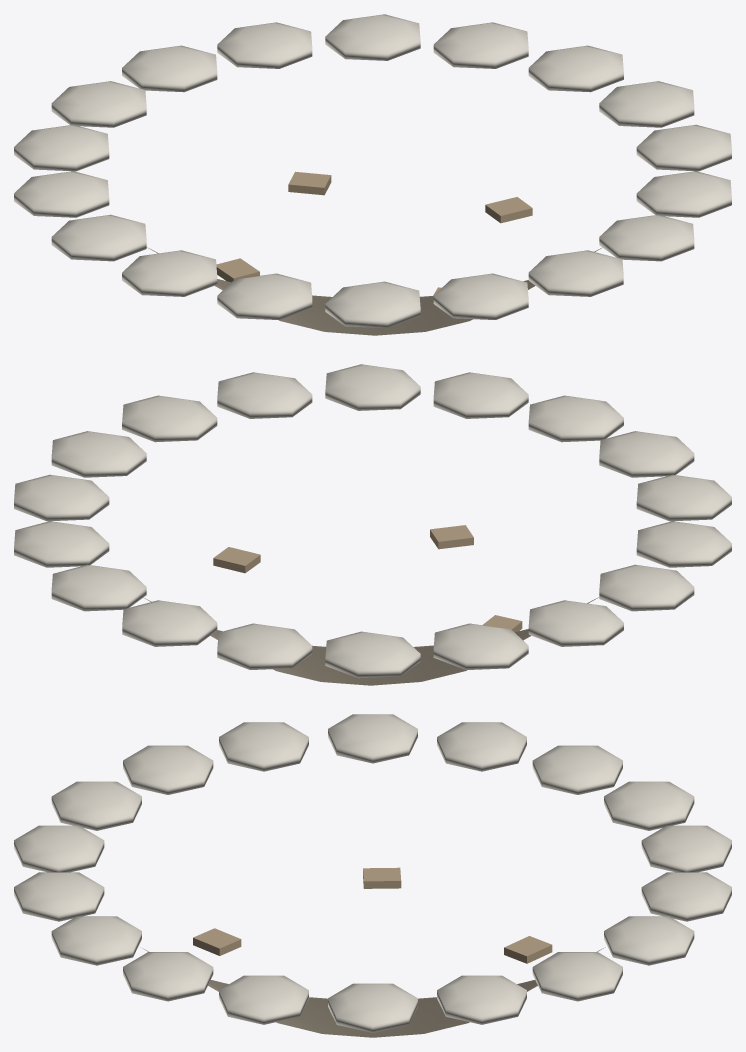
The model's file is trench-line-1917-shell-crater-flooded-ba834ab6__24080.glb.
3 views of the same model, one above another, from view 1: azimuth 30°, elevation 25°; view 2: azimuth 150°, elevation 25°; view 3: azimuth 270°, elevation 25° (orthographic).
Parts seen in each view (by area): view 1: shell-crater-flooded; view 2: shell-crater-flooded; view 3: shell-crater-flooded.
Boxes of the visible parts, <box> form: shell-crater-flooded: <box>14,14,731,335</box>; shell-crater-flooded: <box>14,364,731,685</box>; shell-crater-flooded: <box>14,714,731,1037</box>.
Bounding box in the file's own units: 7.08 × 1.62 × 6.91.
